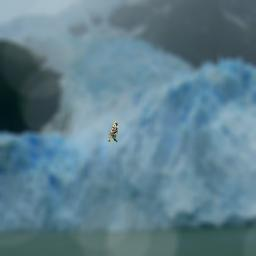Sparrow: (108, 121, 118, 142)
